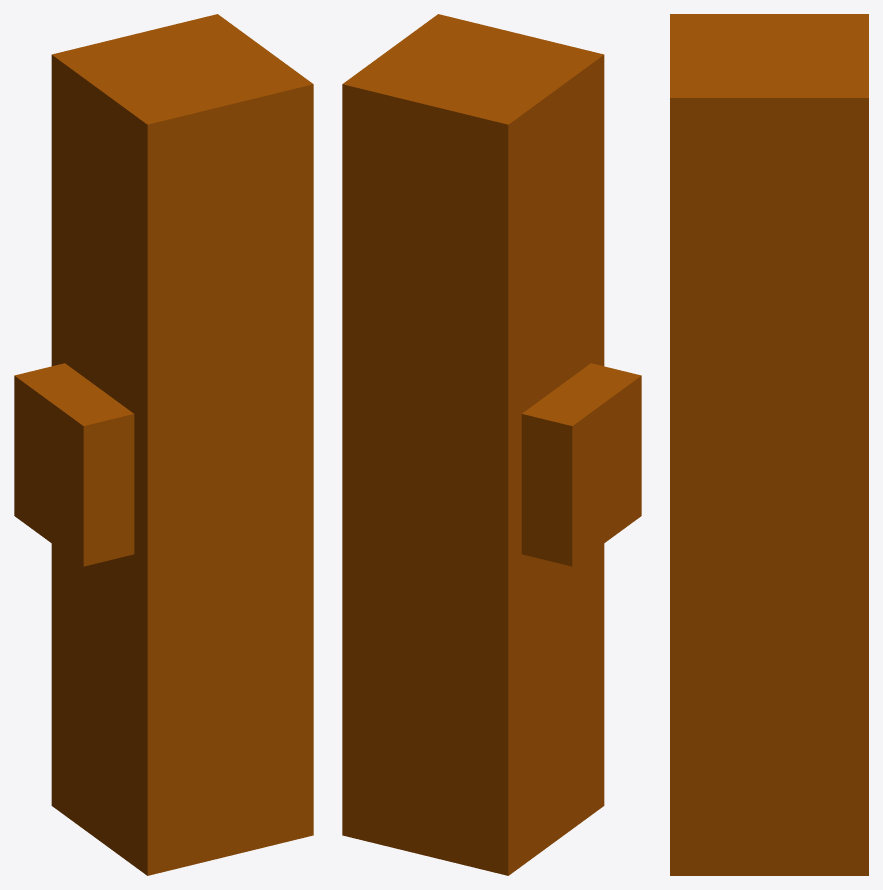
Rendered from FenceB_End.fbx.
3 views of the same model, side by side, from view 1: azimuth 30°, elevation 25°; view 2: azimuth 150°, elevation 25°; view 3: azimuth 270°, elevation 25° (orthographic). The views are drawn at different scales.
Parts seen in each view (by area): view 1: FenceB_End; view 2: FenceB_End; view 3: FenceB_End.
Boxes of the visible parts, x1,y1,x2,y2 form: FenceB_End: (14, 14, 313, 875); FenceB_End: (342, 14, 641, 875); FenceB_End: (670, 14, 868, 875).
Bounding box in the file's own units: 0.4282 × 0.3282 × 1.42.
